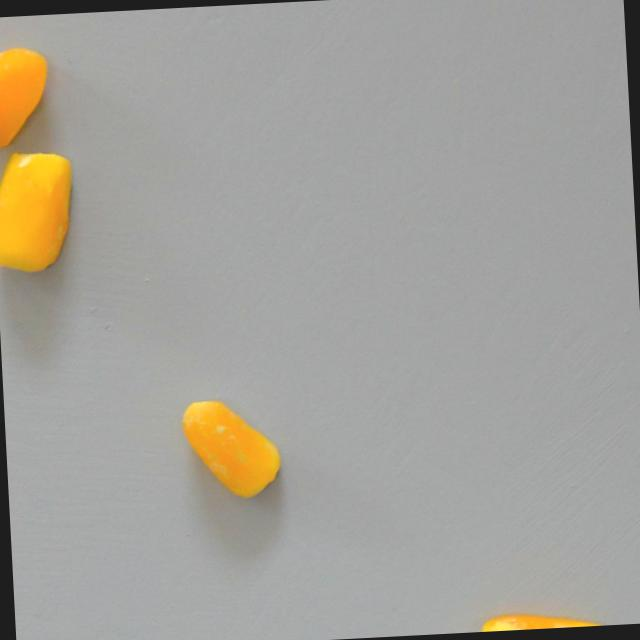dañado: (0, 44, 54, 150)
pelicula: (0, 143, 88, 277), (179, 390, 282, 502), (474, 600, 607, 632)
